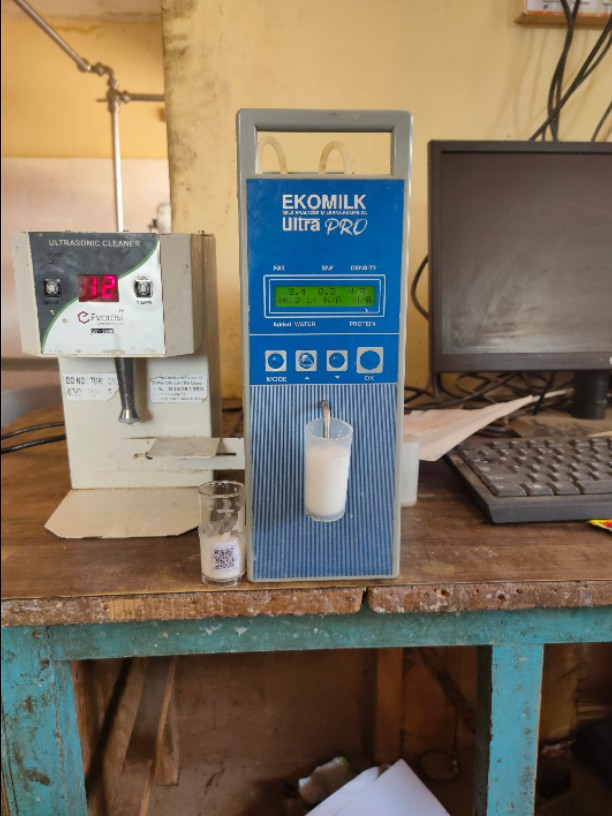lcd: (269, 279, 383, 316)
qr: (209, 545, 243, 573)
